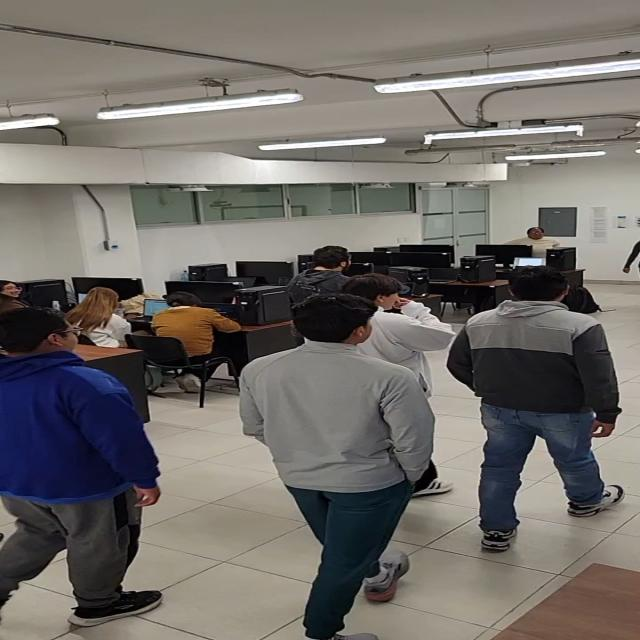Persona: (246, 297, 396, 623), (8, 310, 139, 600), (465, 267, 609, 501), (358, 280, 456, 381), (288, 234, 359, 296)
